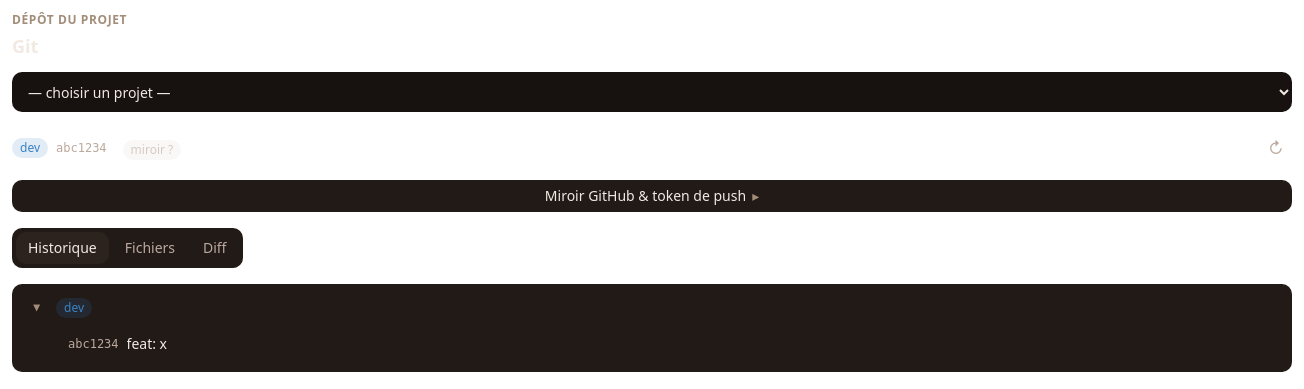
GitExplorer › accordéon : cliquer la rangée de branche replie/déplie son log inline
This screenshot has width=1304, height=389.
expect the text "feat: x" is shown: met, box [127, 334, 167, 354]
Click the button "▸ dev" at (74, 308), box [20, 292, 1284, 324]
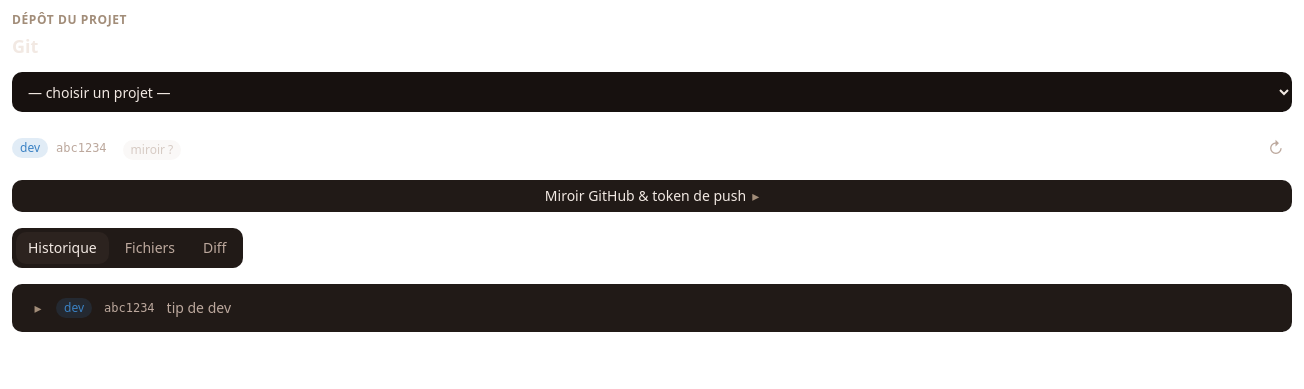
expect the button "feat: x" is gone: met
